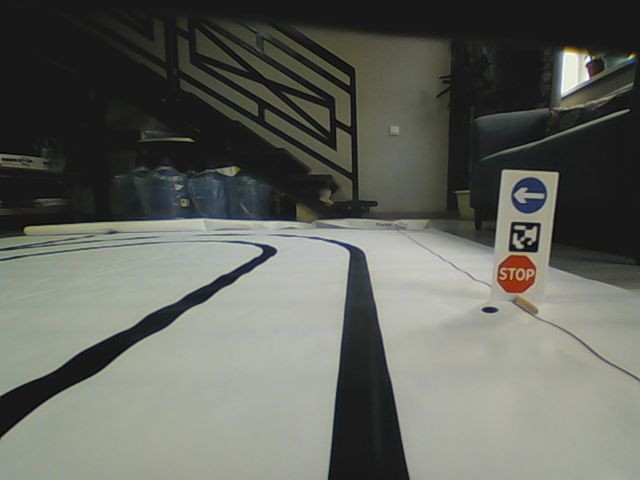Stop: (495, 254, 537, 294)
